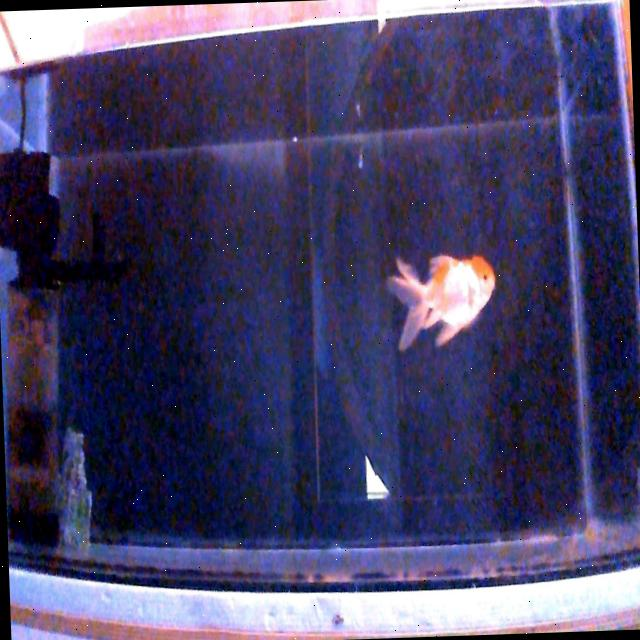fish: (386, 249, 496, 351)
